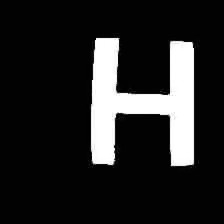LTR_H: (80, 28, 200, 172)
